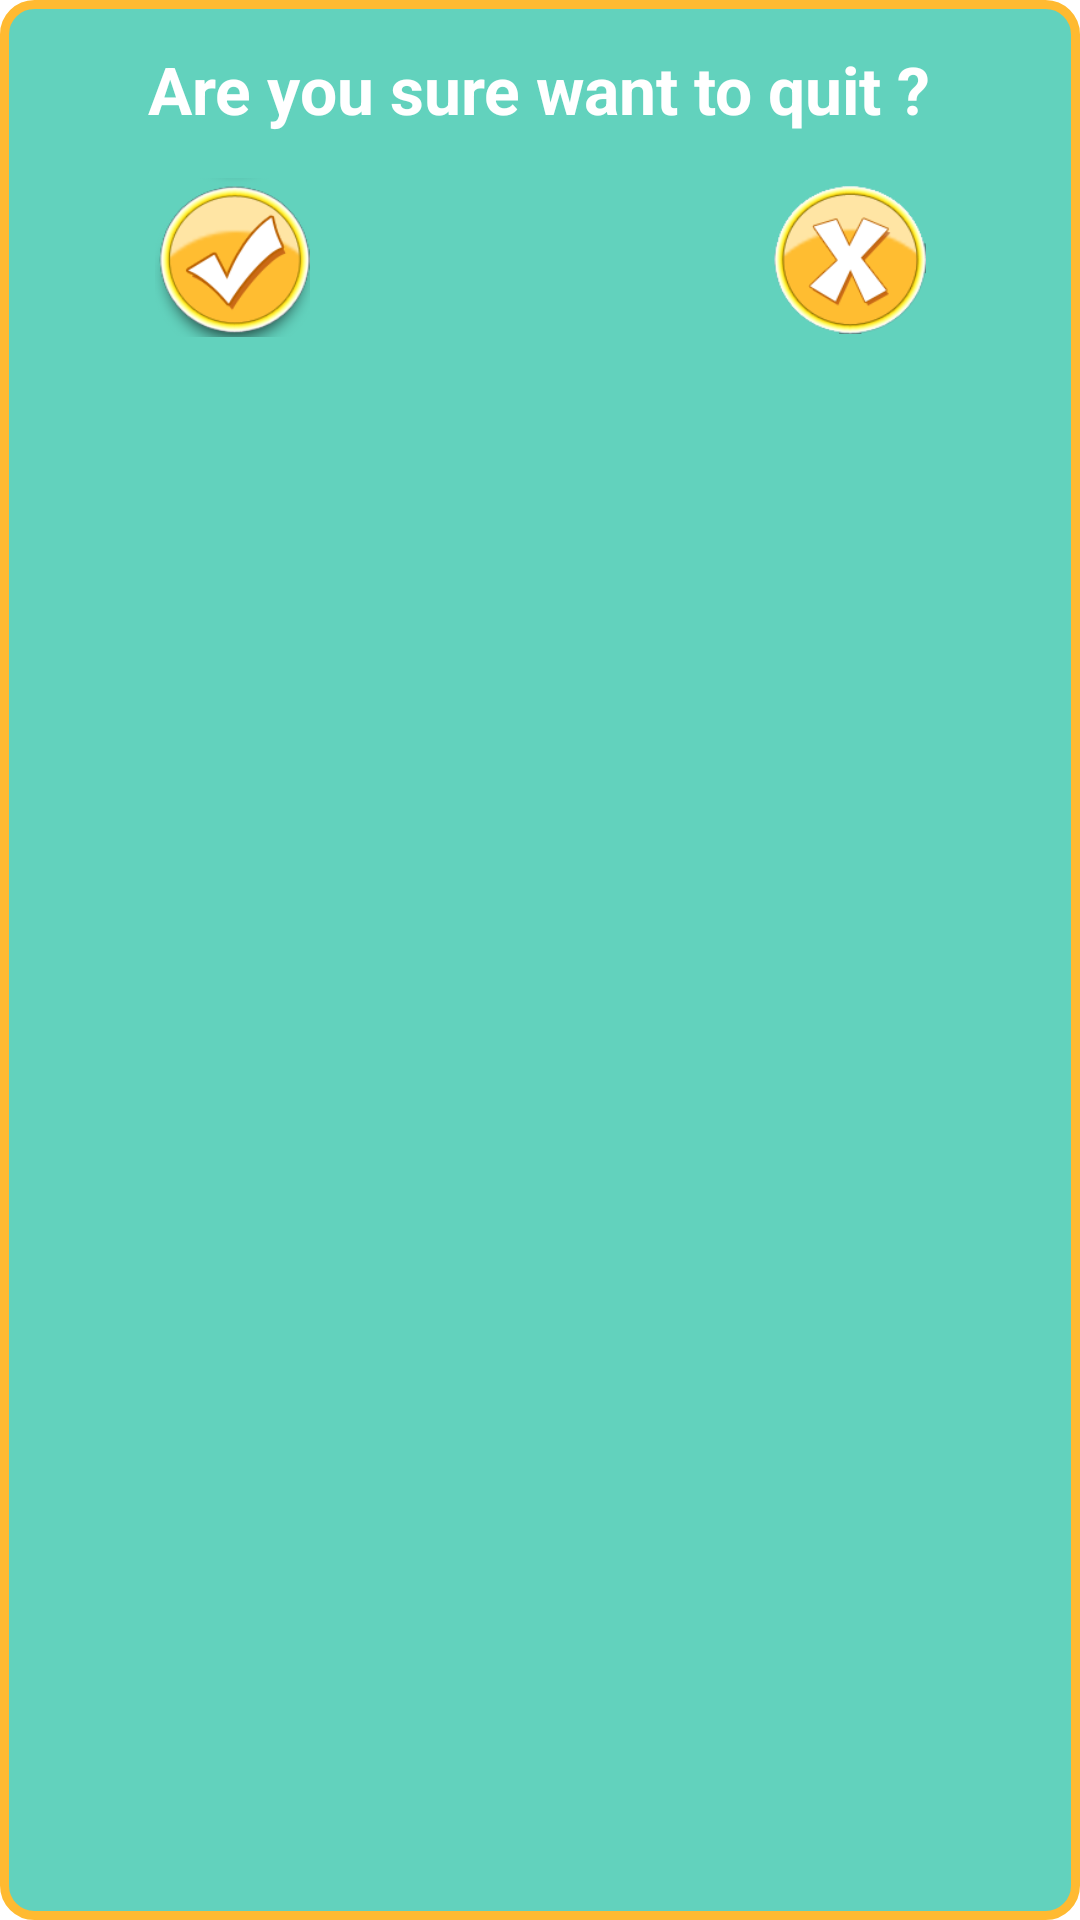

Where icons sit on this 1080px×1920px app screen, as (x1, y1, x2, y2):
cancel: (774, 186, 926, 334)
